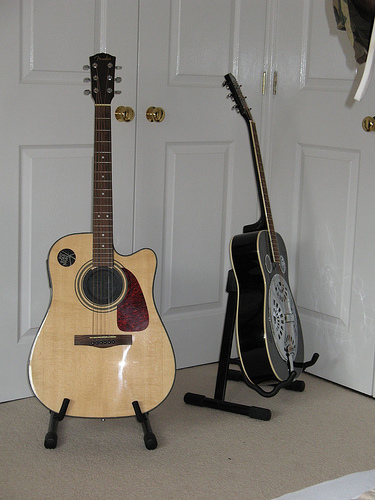guitar: (26, 49, 179, 422), (220, 70, 308, 390)
